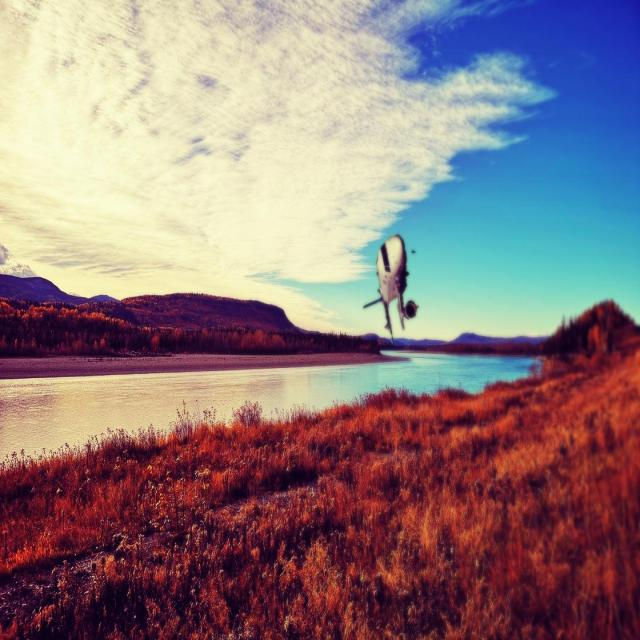airplane: (362, 233, 419, 345)
